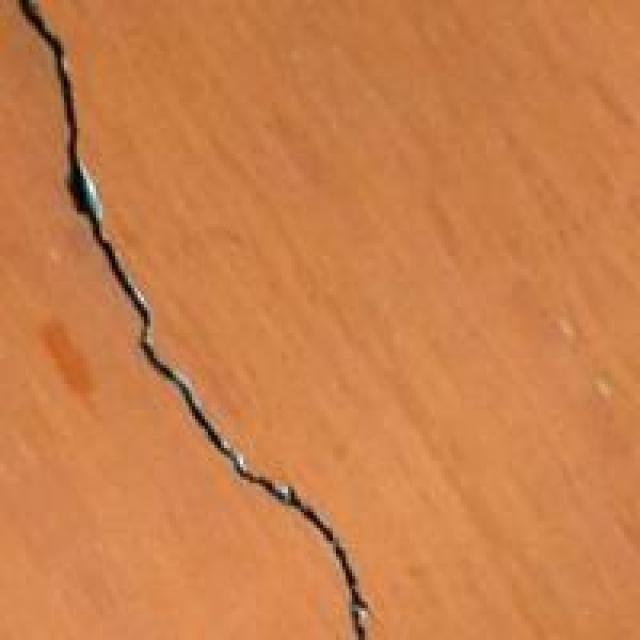crack: (0, 0, 374, 633)
